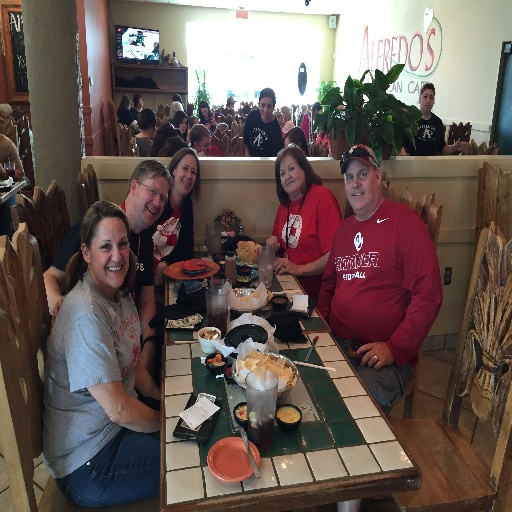hand: (350, 339, 410, 376), (273, 254, 297, 275), (50, 296, 64, 330), (140, 350, 157, 376), (265, 236, 280, 254), (154, 265, 164, 286), (0, 161, 6, 179)
